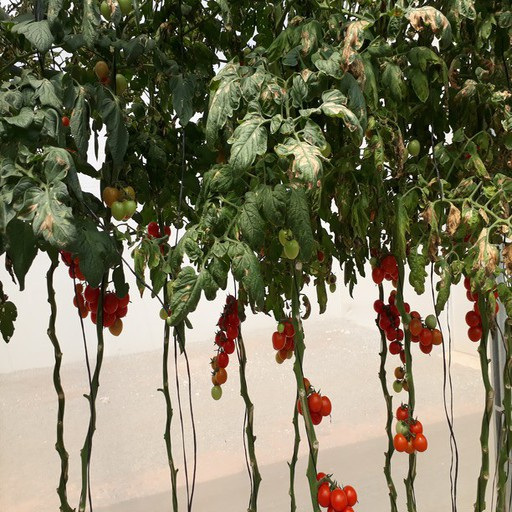dry leaves: (211, 53, 364, 185), (408, 187, 512, 269)
green tomato bunch: (101, 181, 139, 219)
red tomato bunch: (209, 295, 246, 399), (389, 286, 443, 355), (461, 268, 502, 343), (370, 290, 412, 362), (75, 282, 128, 335), (313, 471, 361, 512), (393, 403, 429, 456), (295, 377, 333, 425), (270, 315, 306, 364), (369, 240, 405, 287), (140, 218, 173, 258)
